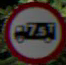Heavy Vehicles: (8, 5, 59, 57)
